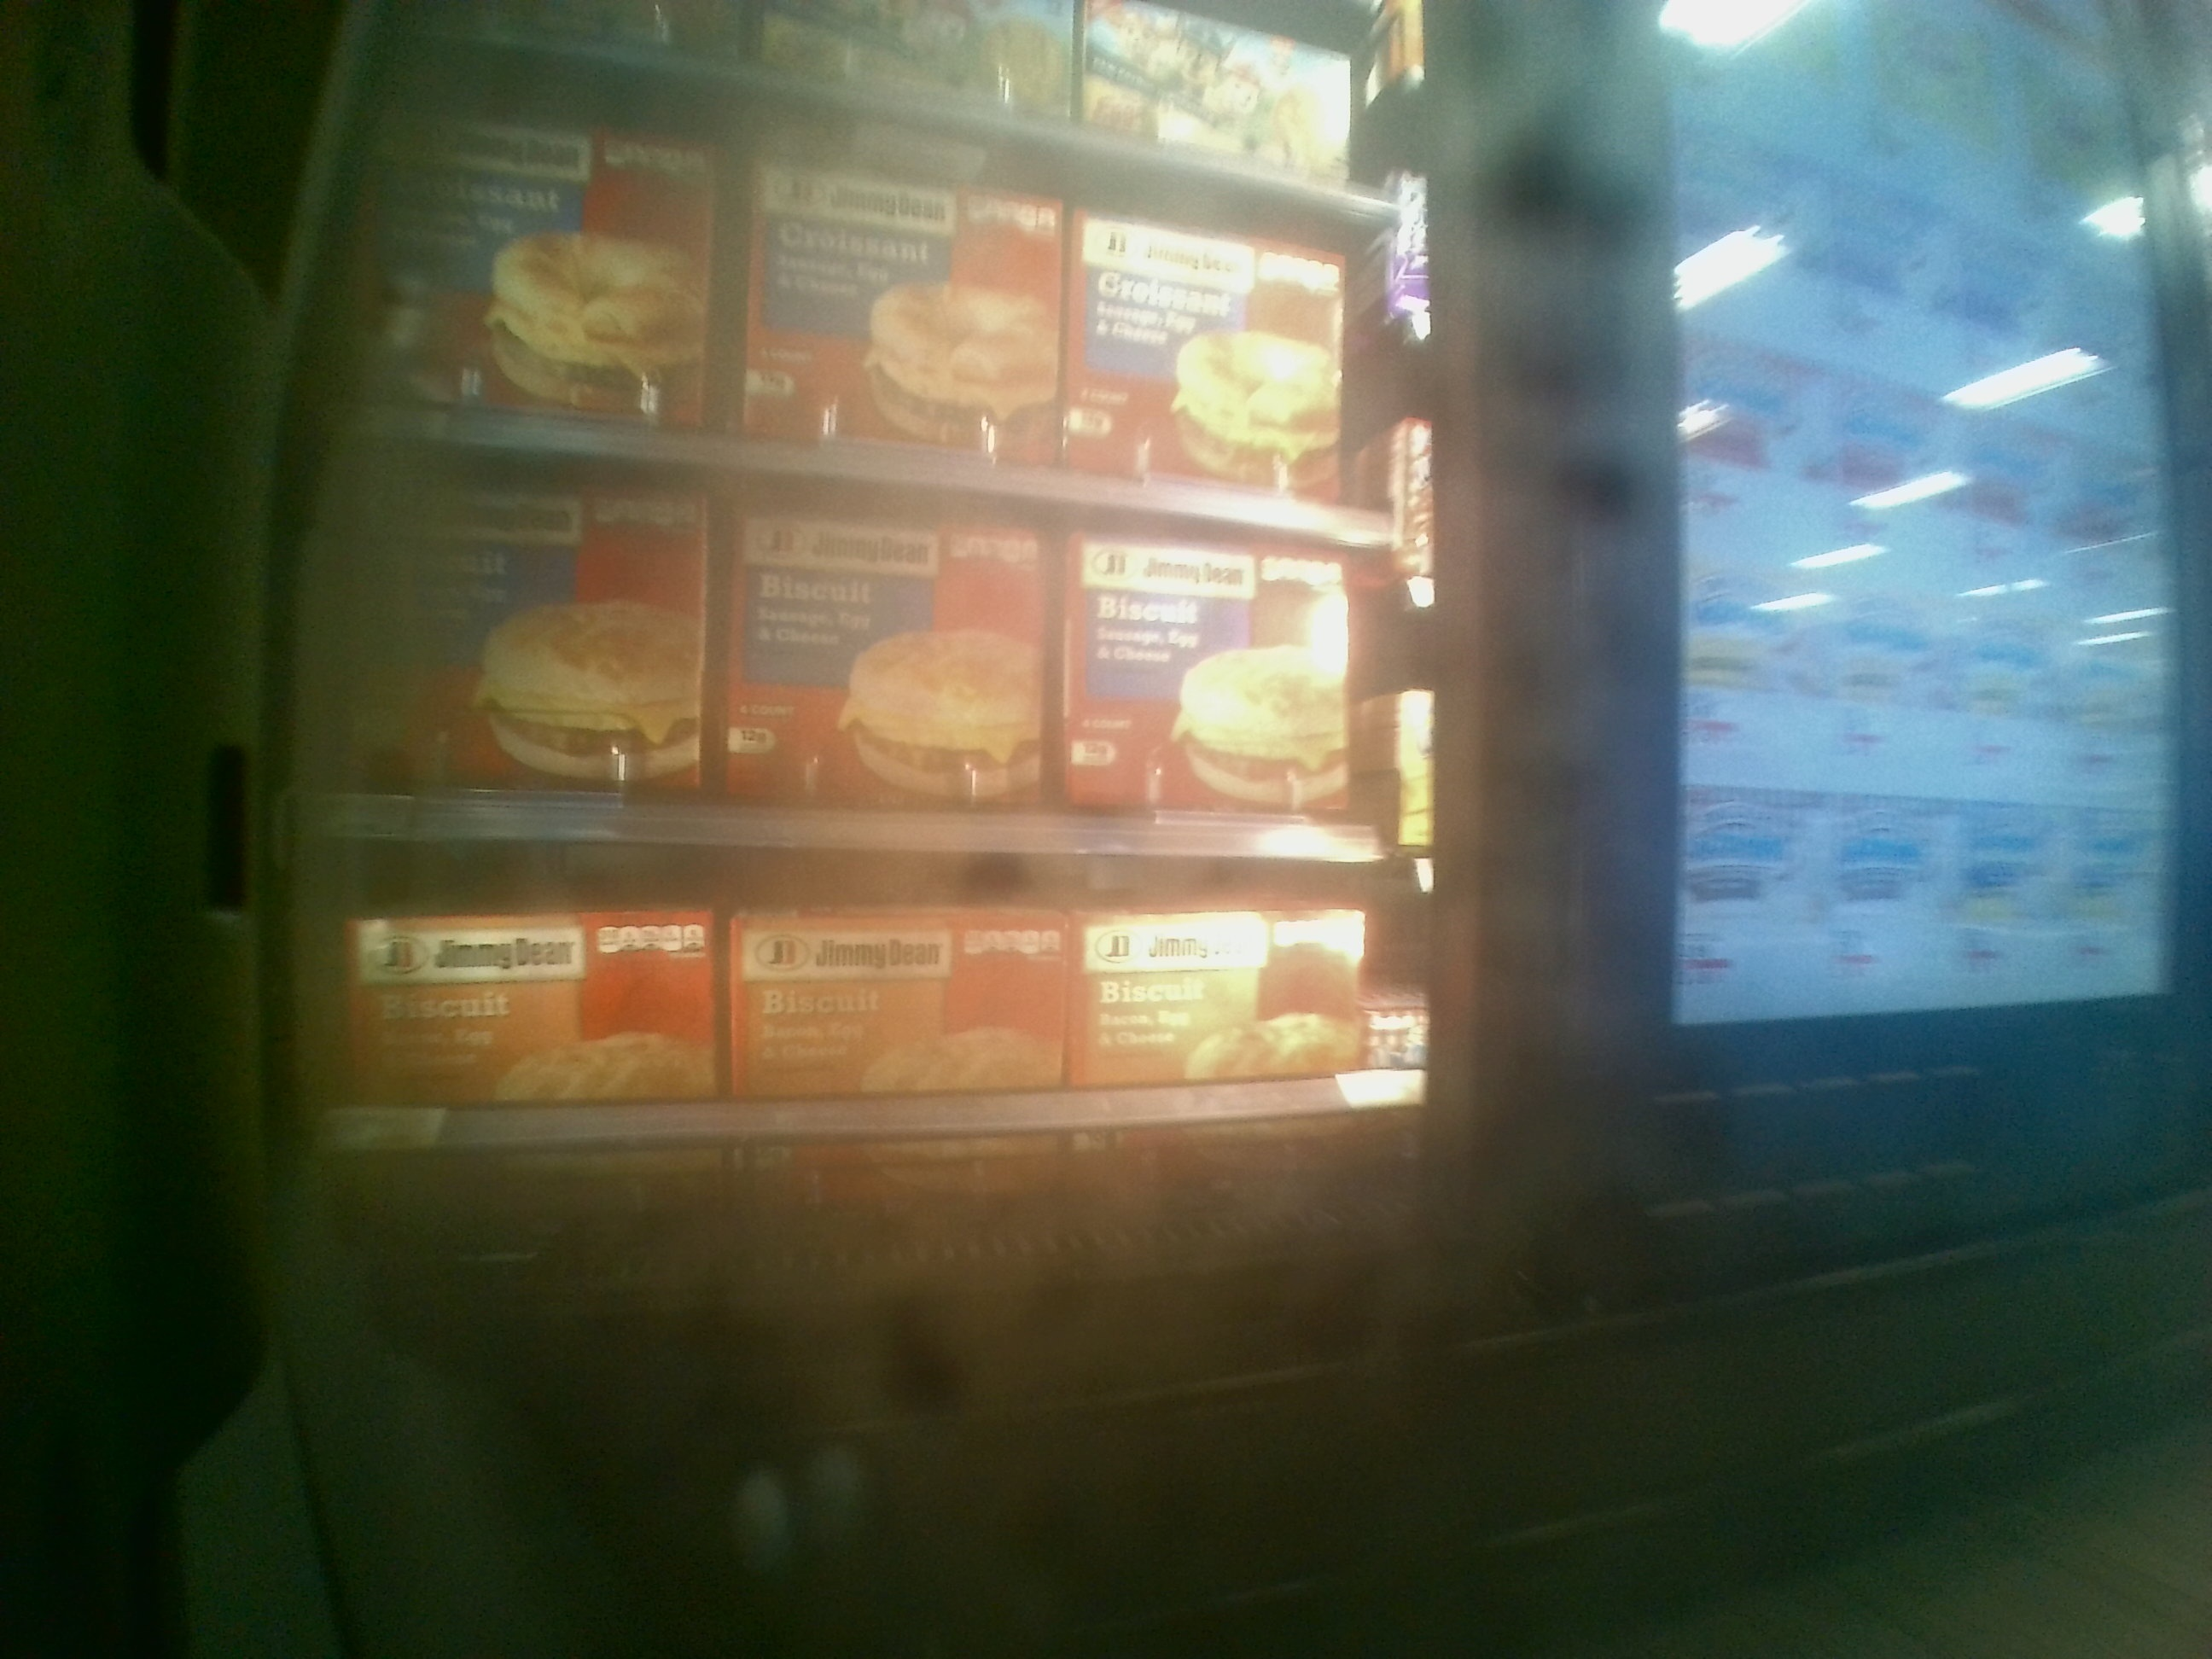shelf: (329, 843, 1439, 1263), (326, 448, 1413, 847)
